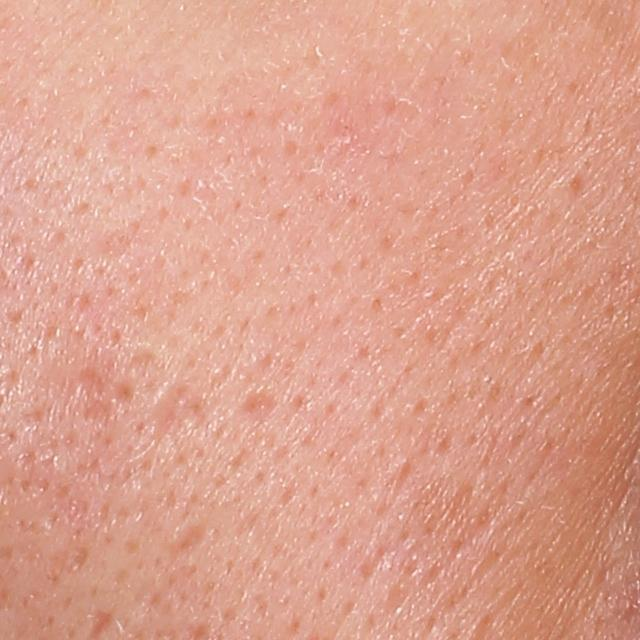atrophic_scar: (148, 384, 203, 439), (172, 519, 210, 557)
